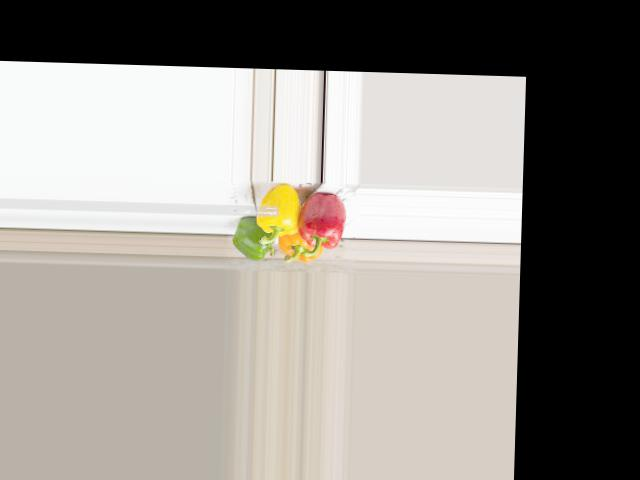bell_pepper: (276, 230, 323, 264)
